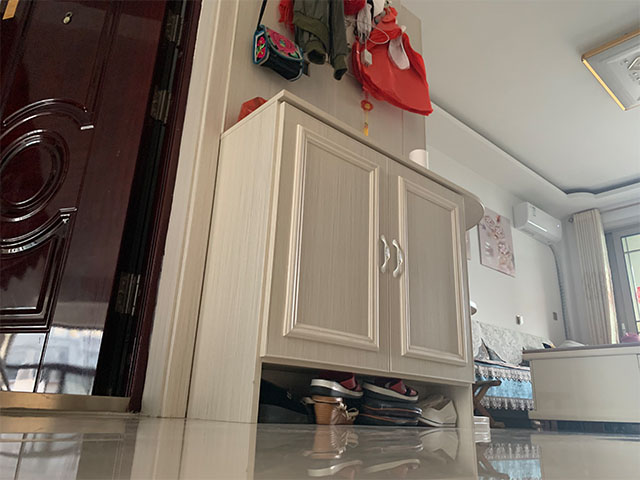cabinet: (191, 85, 488, 430)
sofa: (470, 318, 586, 426)
stool: (474, 379, 507, 429)
table: (520, 342, 640, 435)
